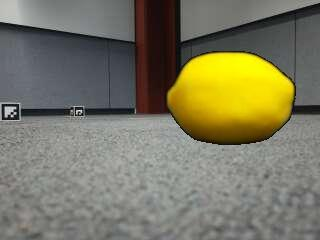lemon: (167, 52, 293, 144)
